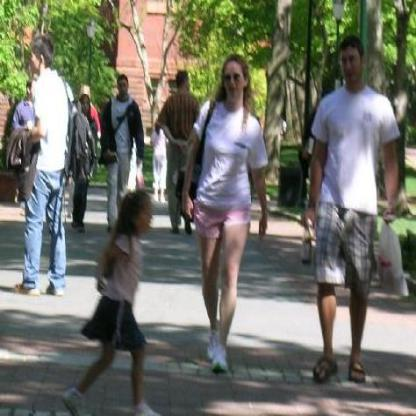person: (298, 35, 388, 386), (179, 51, 264, 376), (81, 193, 163, 416)
